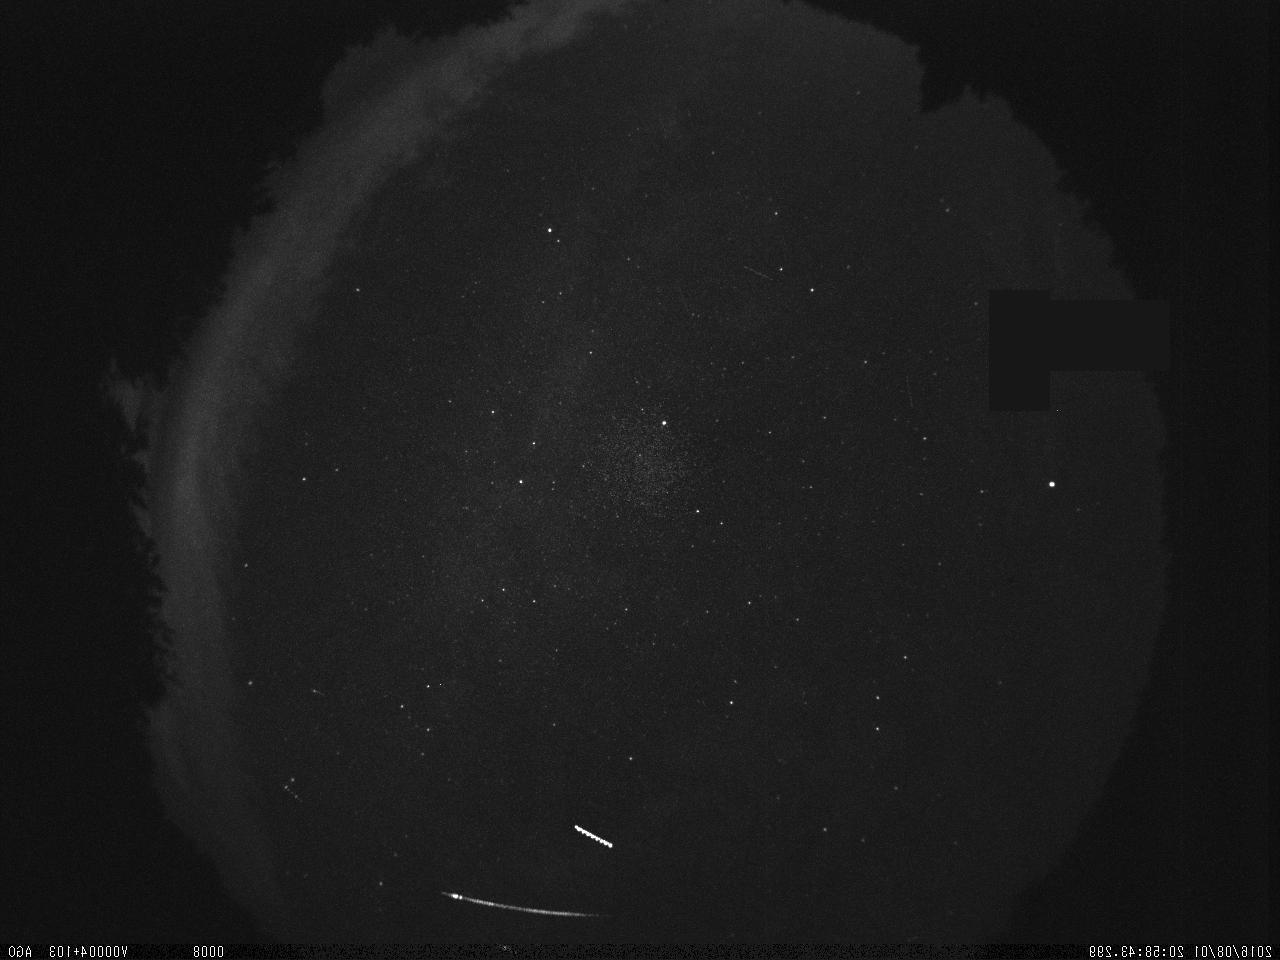meteor: (430, 882, 611, 931)
satelite: (567, 814, 621, 856)
